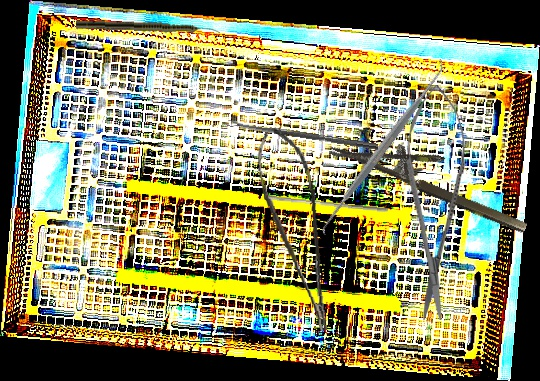Handpiece: (75, 19, 221, 36)
Micro Scissor: (251, 123, 335, 337), (401, 84, 468, 321)
Needle Holder: (328, 115, 539, 236)
Pusher: (265, 194, 389, 213)
Spatula Surgical: (310, 56, 456, 239)
Surgical Spoon: (227, 119, 379, 150)
